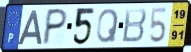5: (71, 7, 97, 47), (148, 6, 169, 45)
A: (16, 9, 43, 46)
B: (121, 7, 148, 44)
P: (40, 7, 70, 47)
Q: (95, 7, 120, 45)
